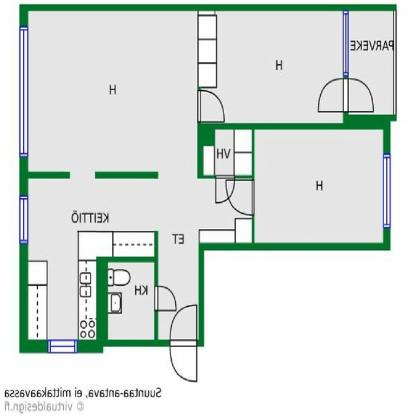door: (166, 302, 202, 383), (315, 78, 379, 114), (224, 178, 254, 219), (196, 92, 226, 123), (152, 285, 178, 315), (214, 176, 237, 204)
window: (19, 26, 29, 158), (382, 153, 390, 229), (49, 337, 75, 354), (343, 11, 349, 76), (20, 196, 28, 242)
zone: (28, 180, 201, 342), (30, 11, 199, 171), (201, 11, 342, 123), (252, 129, 384, 242), (350, 12, 394, 112), (107, 264, 154, 340), (198, 178, 253, 242), (214, 127, 252, 176)
